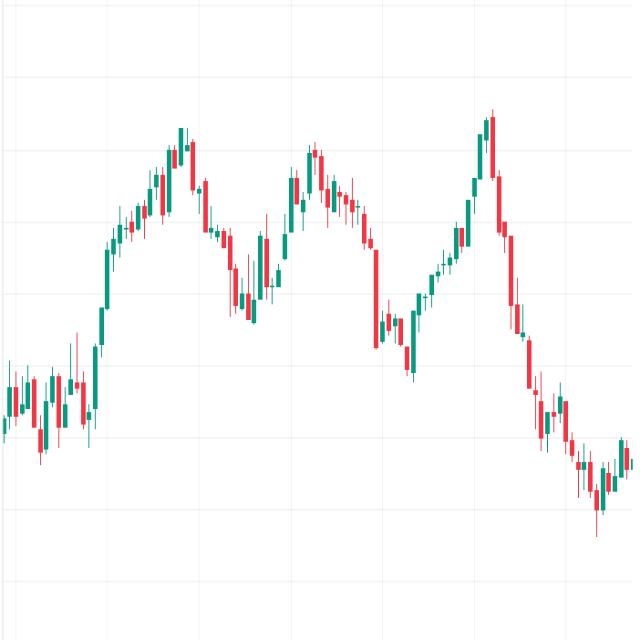Triple-Top: (83, 96, 549, 374)
